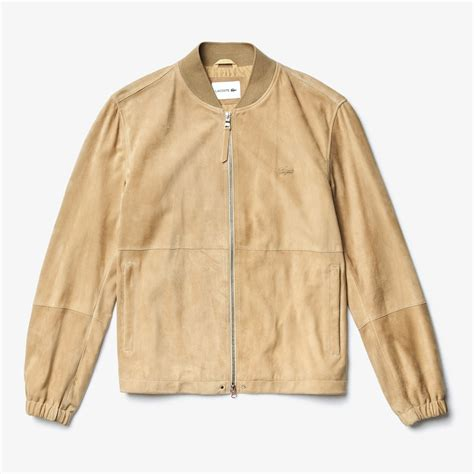gamuza: (23, 42, 450, 427)
